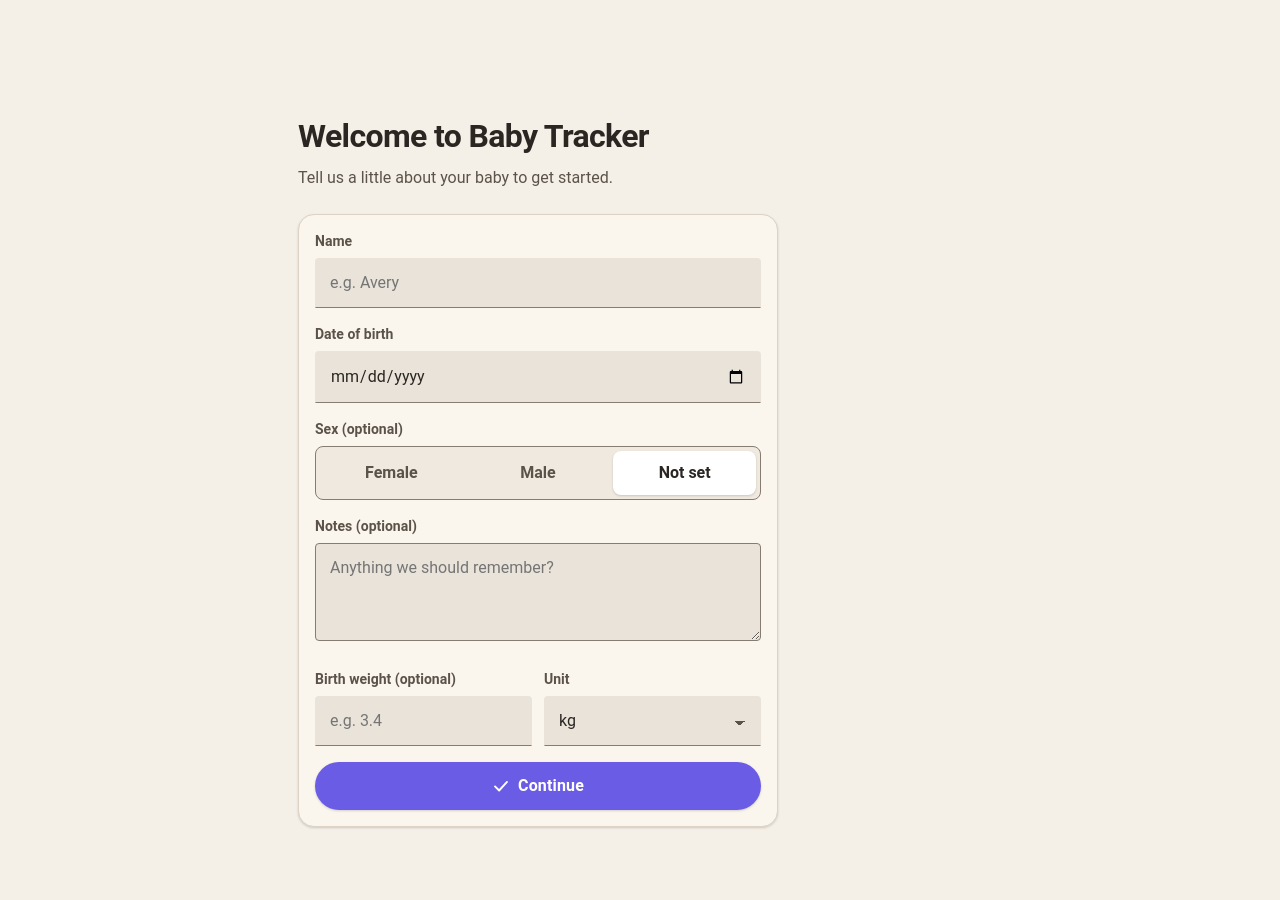
Test: PDF report section selection › merges a previously stored 5-key selection with the new keys defaulting on
Type "Avery" into the field labelled "Name" at point(538, 283), box [315,258,761,308]
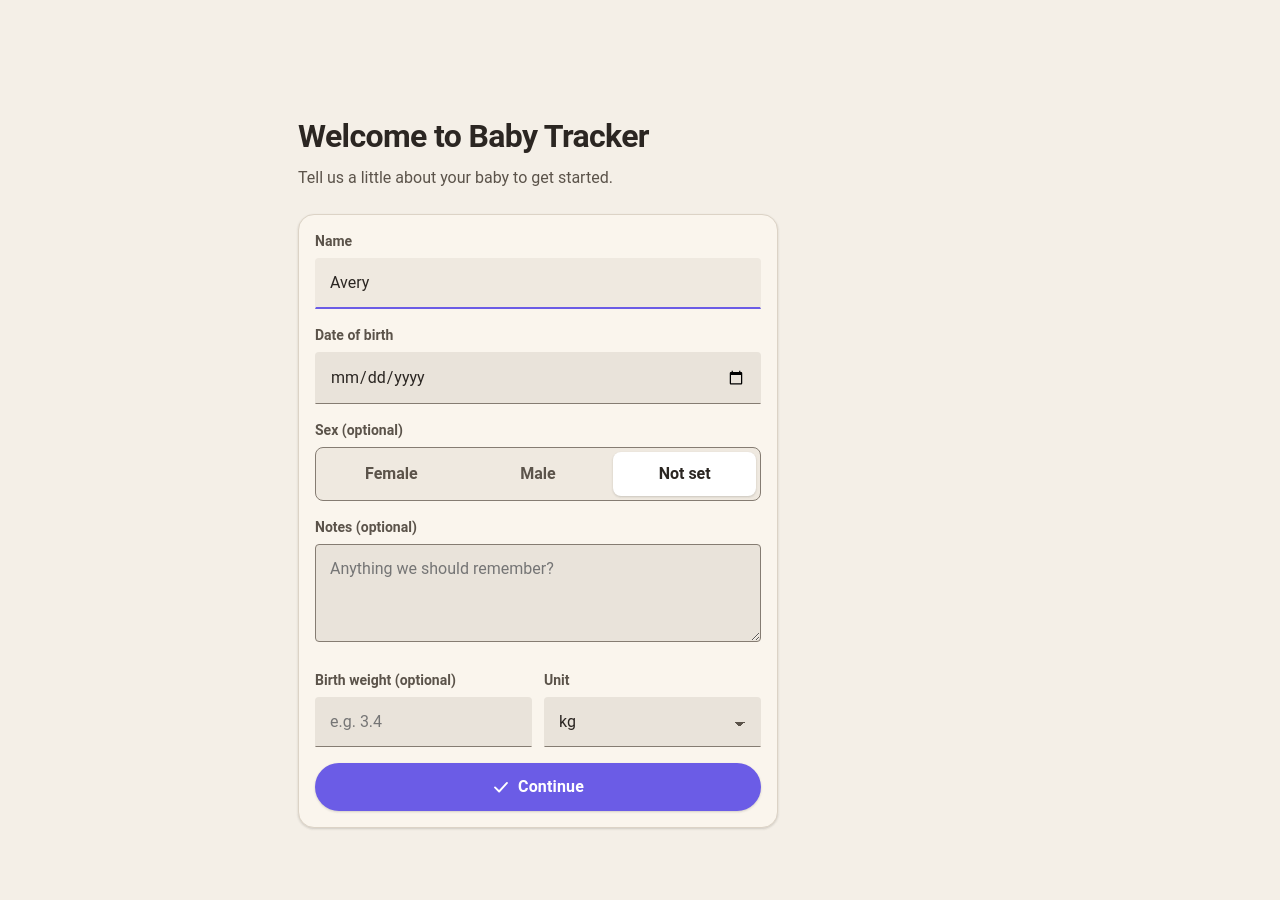
Type "2026-01-15" into the date field labelled "Date of birth" at point(538, 378), box [315,352,761,404]
Click the button "Continue" at point(538, 787), box [315,763,761,811]
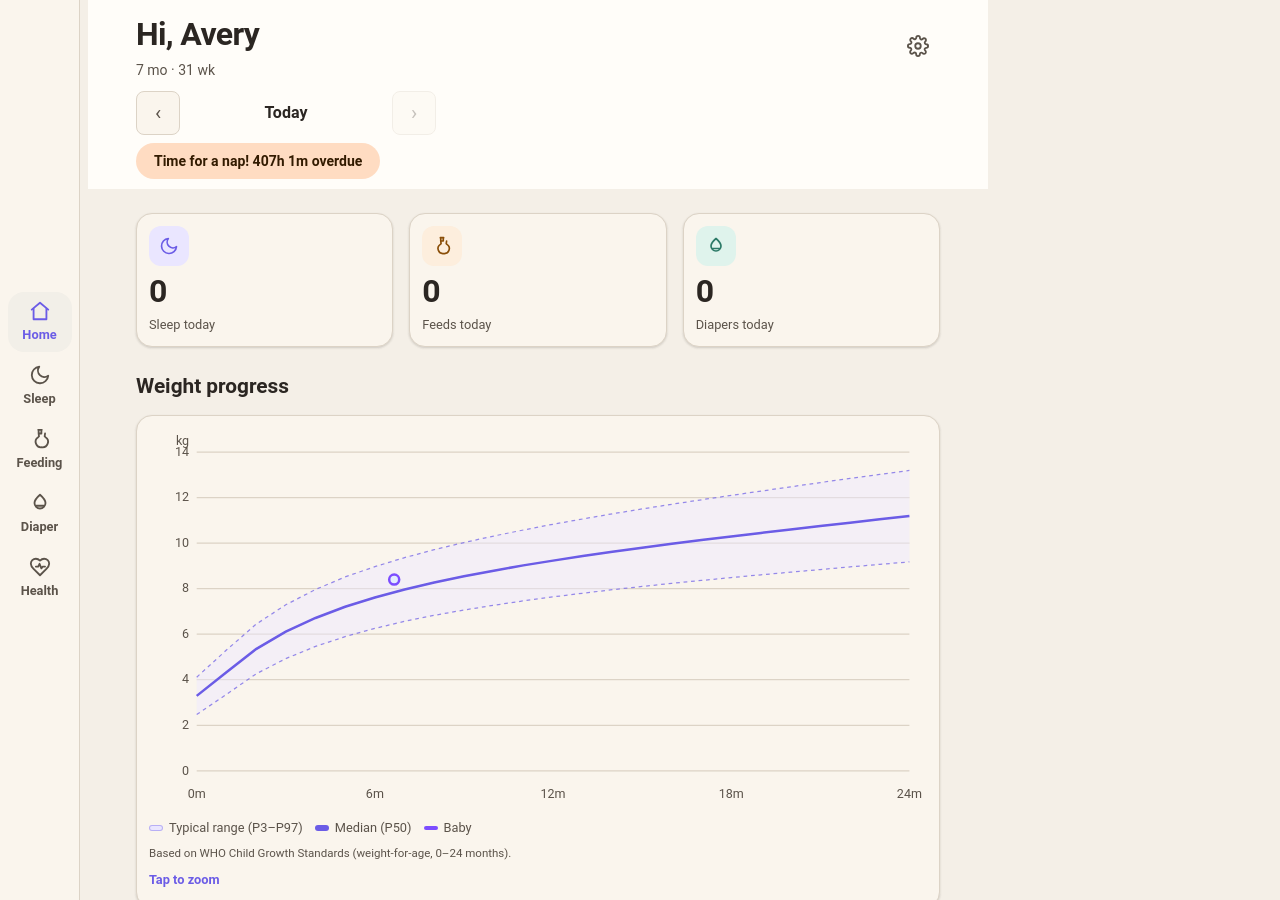
Click the button named "settings" at point(918, 46), box [896,24,940,68]
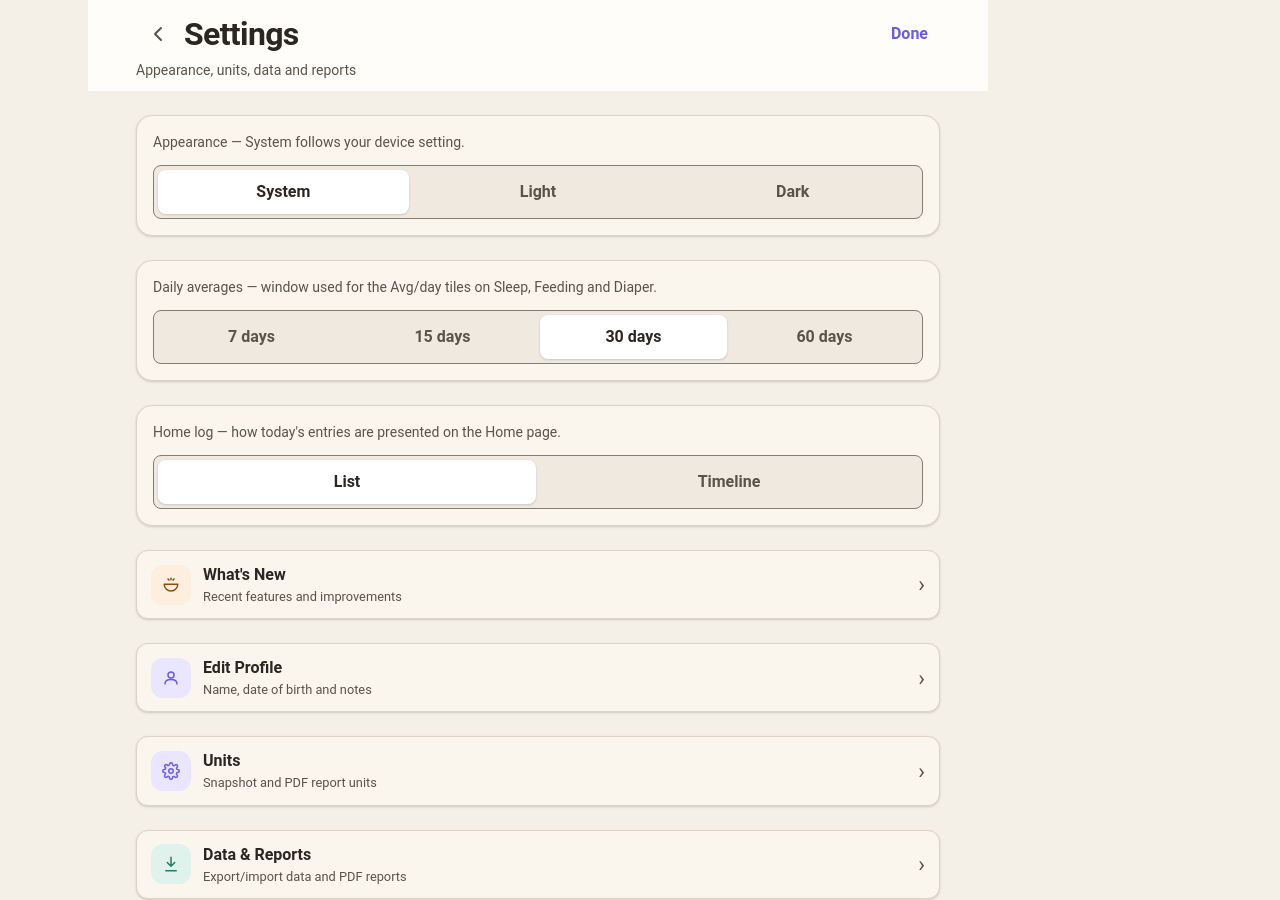
Click the button "Data & reports Export/import data and PDF reports ›" at point(171, 864), box [136,830,940,899]
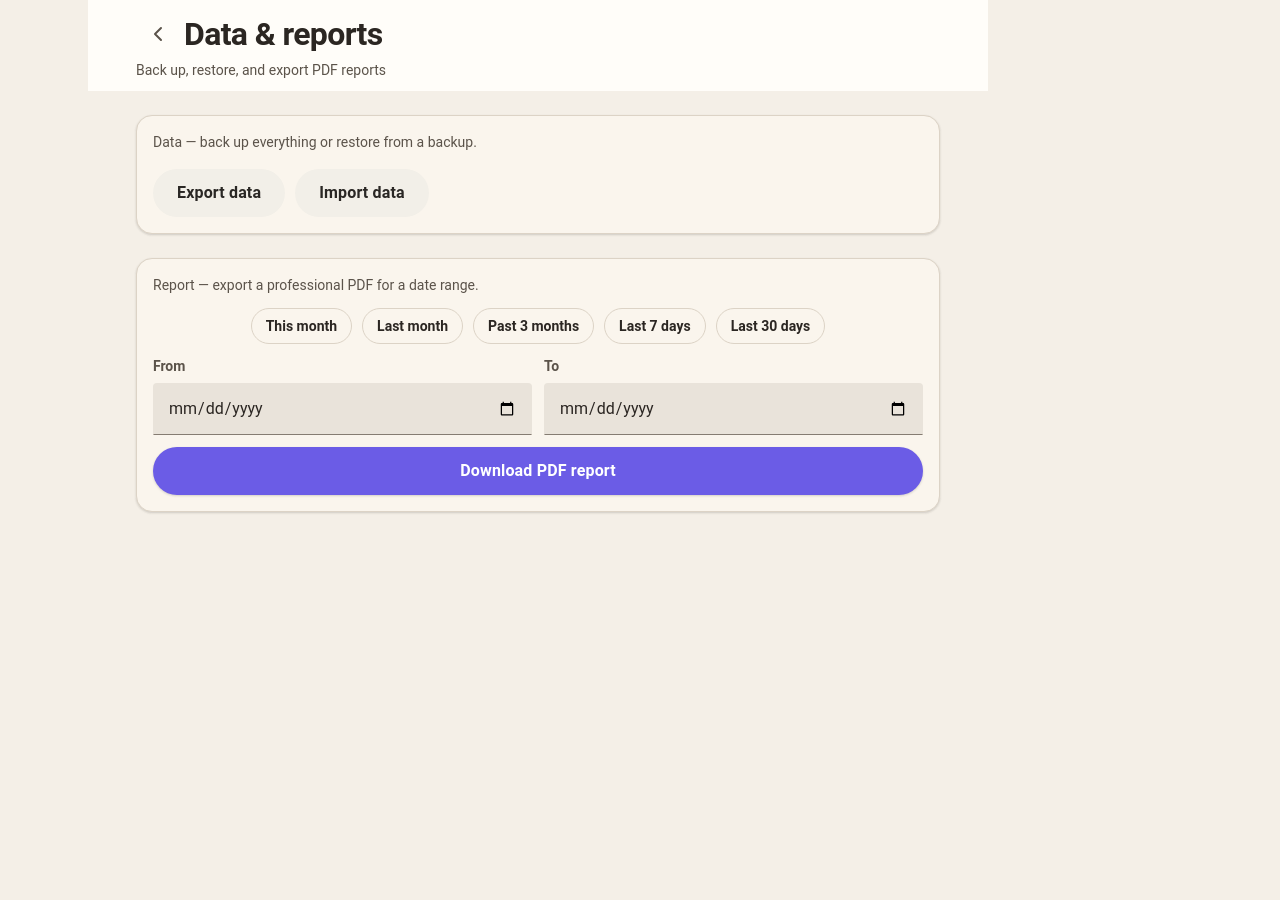
Type "2026-08-01" into the date field labelled "From" at point(342, 409), box [153,383,532,435]
Type "2026-08-08" into the date field labelled "To" at point(734, 409), box [544,383,923,435]
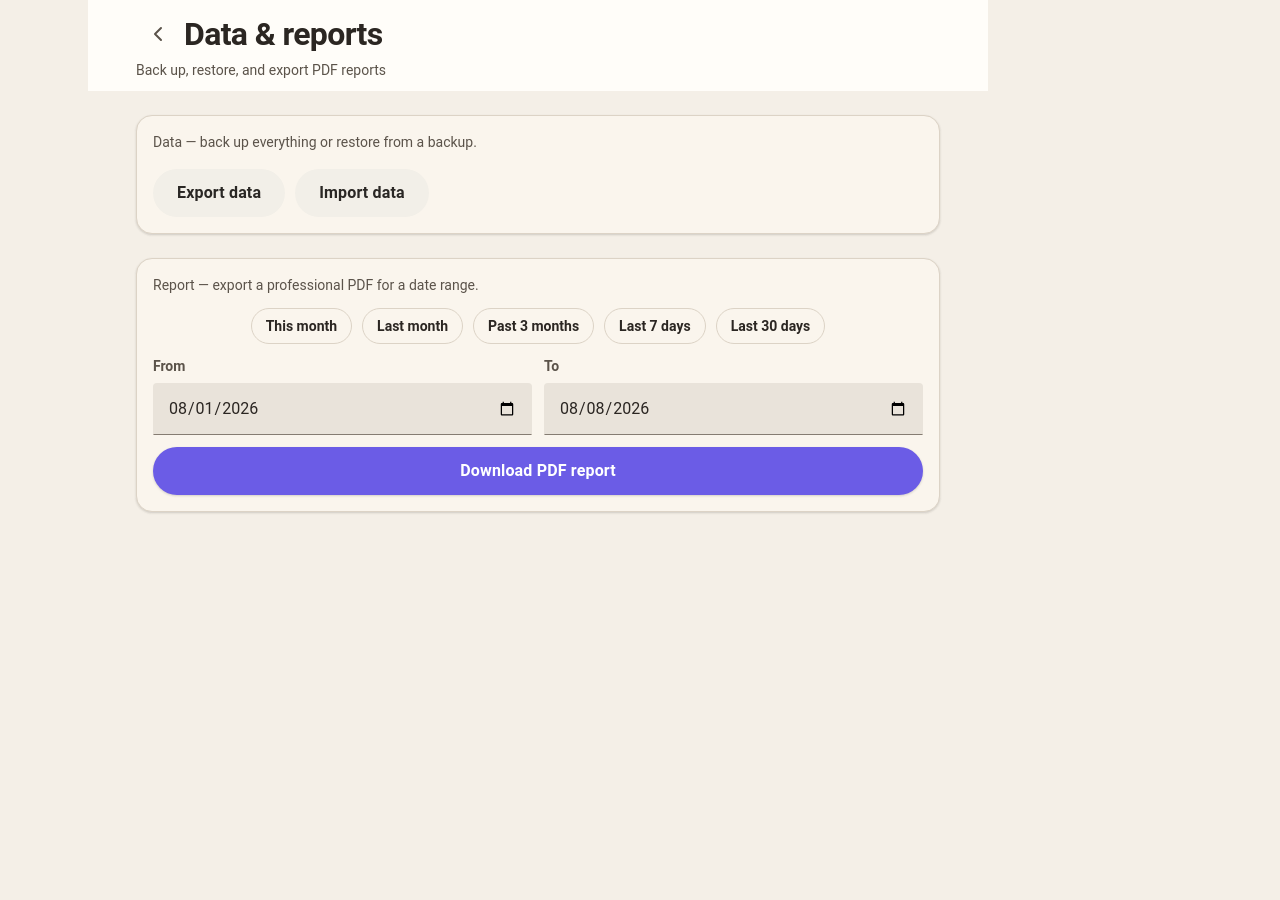
Click the button "Download PDF report" at point(538, 471), box [153,447,923,495]
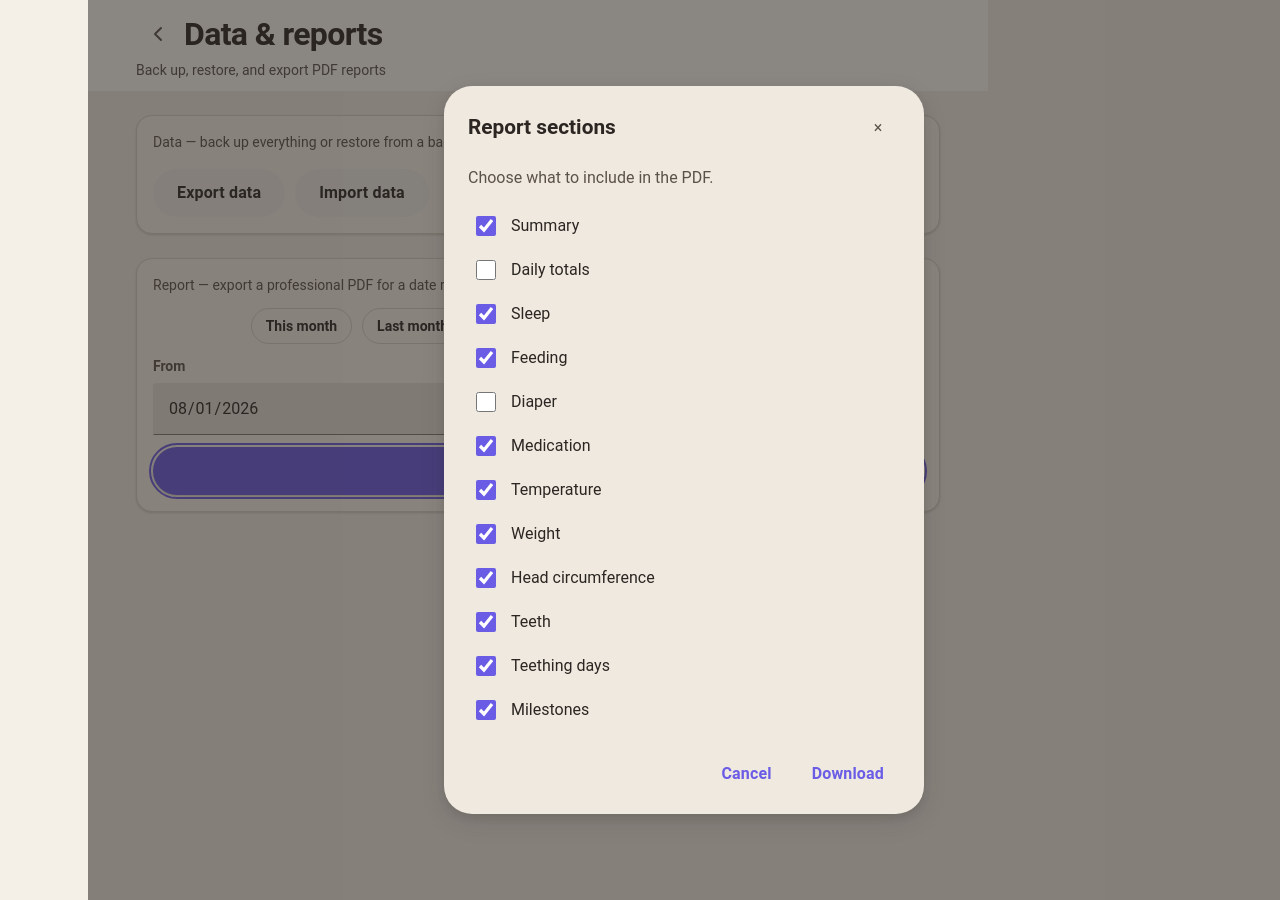
Expected: the checkbox labelled "Daily totals" is not checked, [476,260,496,280]
Expected: the checkbox labelled "Medication" is checked, [476,436,496,456]
Expected: the checkbox labelled "Milestones" is checked, [476,700,496,720]
